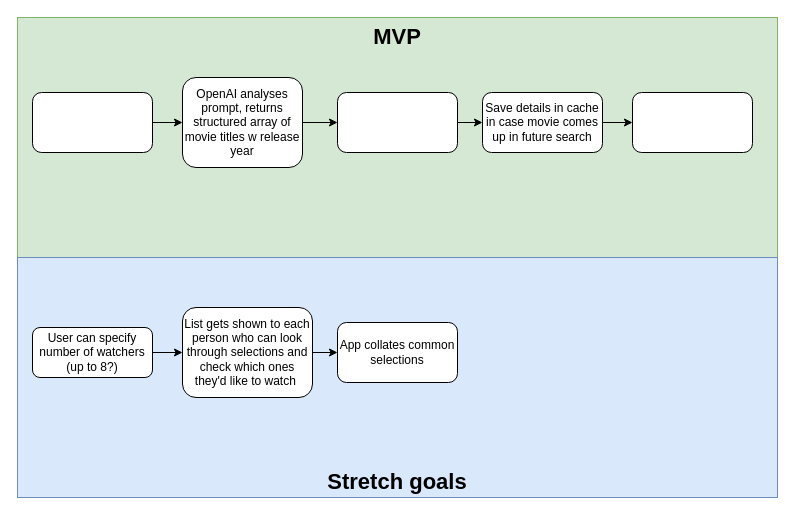
Image size: 795x515. Some labels were removed from this diagram. The centre of each missing label's shape, as x and y in pixels:
OMDB API call for each movie & movie poster to get full details: point 397,122
Show list to user: point 692,122
User types in prompt w optional genre selections: point 92,122
